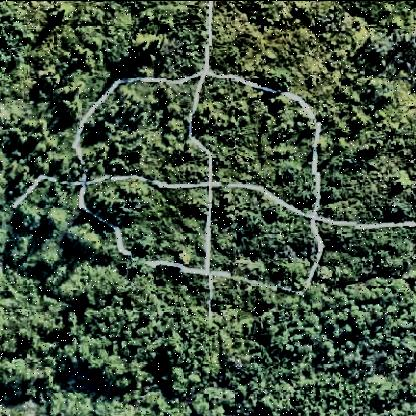tree-top: (262, 298, 320, 351), (83, 264, 129, 307), (64, 341, 106, 386), (1, 352, 51, 388), (159, 364, 190, 402), (92, 193, 128, 222), (69, 224, 101, 254), (323, 314, 353, 341), (368, 37, 397, 63), (59, 96, 84, 124), (134, 30, 162, 54), (193, 103, 217, 129)
